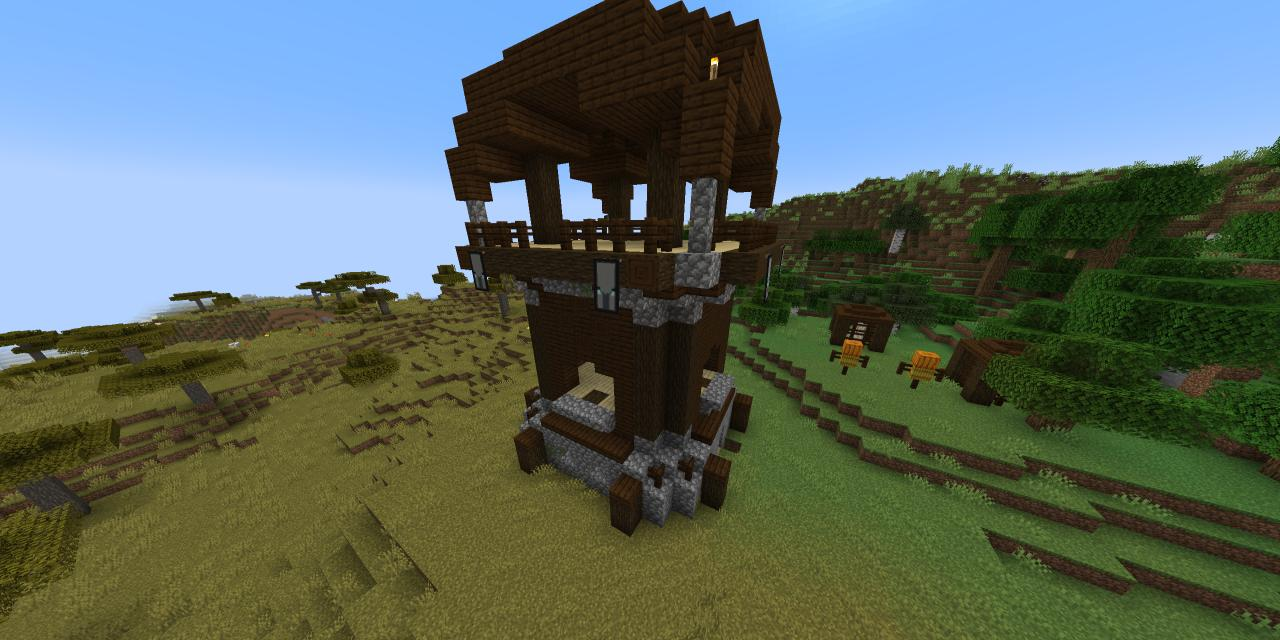pillager outpost: (444, 0, 798, 551)
